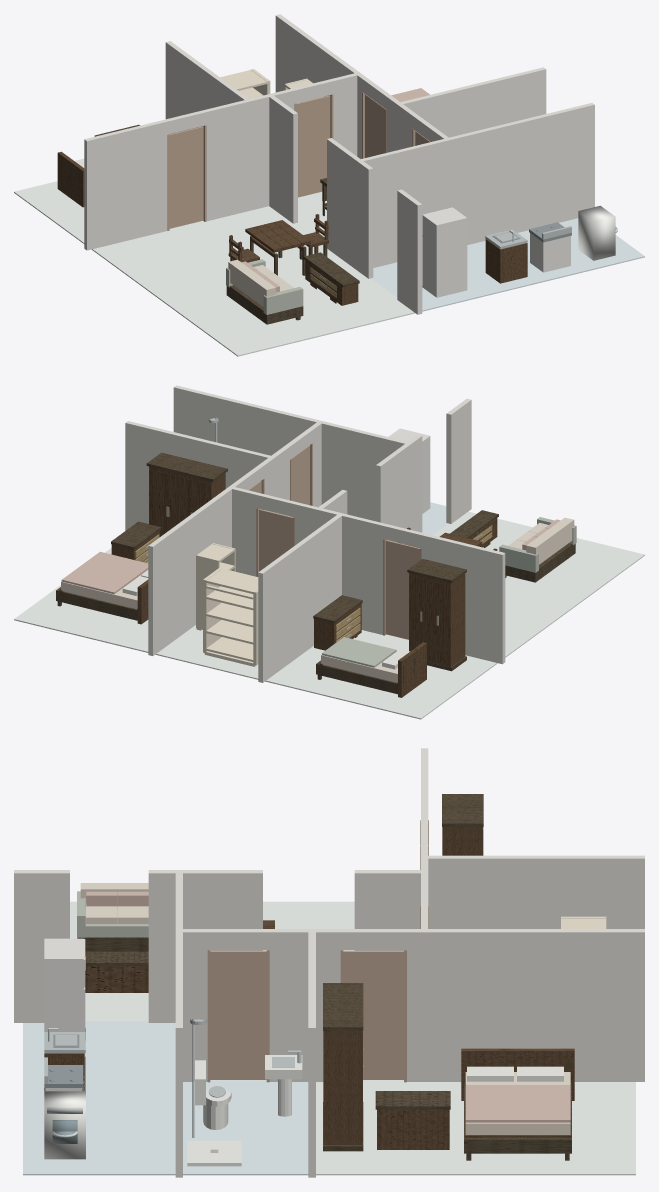
3 renders of one model, top to bottom at view 1: azimuth 30°, elevation 25°; view 2: azimuth 150°, elevation 25°; view 3: azimuth 270°, elevation 25°, orthographic. The views are drawn at different scales.
Parts seen in each view (by area): view 1: H22_WALL_07, H22_FLOOR_01_SALA_JANTAR, H22_WALL_00, H22_WALL_01, H22_WALL_11, H22_WALL_05, H22_FLOOR_04_COZINHA_SERVICO, H22_WALL_08, H22_FURN_09_fridge__05__gabinete, H22_WALL_03, H22_DOOR_00_LEAF, H22_WALL_04 (+19 smaller); view 2: H22_WALL_07, H22_WALL_03, H22_FLOOR_01_SALA_JANTAR, H22_WALL_08, H22_FLOOR_00_QUARTO_2, H22_WALL_00, H22_WALL_11, H22_WALL_01, H22_FLOOR_05_QUARTO_1, H22_WALL_05, H22_WALL_06, H22_DOOR_00_LEAF (+40 smaller); view 3: H22_WALL_08, H22_FLOOR_04_COZINHA_SERVICO, H22_WALL_03, H22_FLOOR_05_QUARTO_1, H22_WALL_05, H22_FLOOR_06_BANHEIRO, H22_WALL_09, H22_DOOR_03_LEAF, H22_WALL_06, H22_DOOR_02_LEAF, H22_FLOOR_01_SALA_JANTAR, H22_FURN_14_wardrobe__06__corpo (+29 smaller).
Boxes of the visible parts, x1,y1,x2,y2 form: H22_WALL_07: (360,103,594,267); H22_FLOOR_01_SALA_JANTAR: (92,206,414,356); H22_WALL_00: (84,119,168,250); H22_WALL_01: (203,88,295,221); H22_WALL_11: (399,67,546,137); H22_WALL_05: (327,138,373,278); H22_FLOOR_04_COZINHA_SERVICO: (371,218,644,311); H22_WALL_08: (275,14,367,158); H22_FURN_09_fridge__05__gabinete: (422,207,467,297); H22_WALL_03: (165,41,248,134); H22_DOOR_00_LEAF: (169,126,203,228); H22_WALL_04: (268,94,297,223); H22_WALL_07: (173,385,409,521); H22_WALL_03: (258,514,341,682); H22_FLOOR_01_SALA_JANTAR: (387,511,644,657); H22_WALL_08: (148,482,240,655); H22_FLOOR_00_QUARTO_2: (265,630,497,719); H22_WALL_00: (421,533,505,664); H22_WALL_11: (125,421,272,530); H22_WALL_01: (294,502,386,634); H22_FLOOR_05_QUARTO_1: (14,548,148,652); H22_WALL_05: (376,434,422,543); H22_WALL_06: (446,398,471,523); H22_DOOR_00_LEAF: (385,540,419,639); H22_WALL_08: (405,929,644,1081); H22_FLOOR_04_COZINHA_SERVICO: (23,1021,175,1175); H22_WALL_03: (428,855,644,928); H22_FLOOR_05_QUARTO_1: (316,1080,635,1175); H22_WALL_05: (148,870,262,1022); H22_FLOOR_06_BANHEIRO: (183,1080,308,1175); H22_WALL_09: (268,929,341,1081); H22_DOOR_03_LEAF: (210,950,266,1079); H22_WALL_06: (14,870,69,1022); H22_DOOR_02_LEAF: (343,950,403,1079); H22_FLOOR_01_SALA_JANTAR: (70,901,354,1021); H22_FURN_14_wardrobe__06__corpo: (323,1030,362,1144).
Size of the model in its own units: 9.73 by 2.46 by 9.28.
22 materials, 3 textured.
